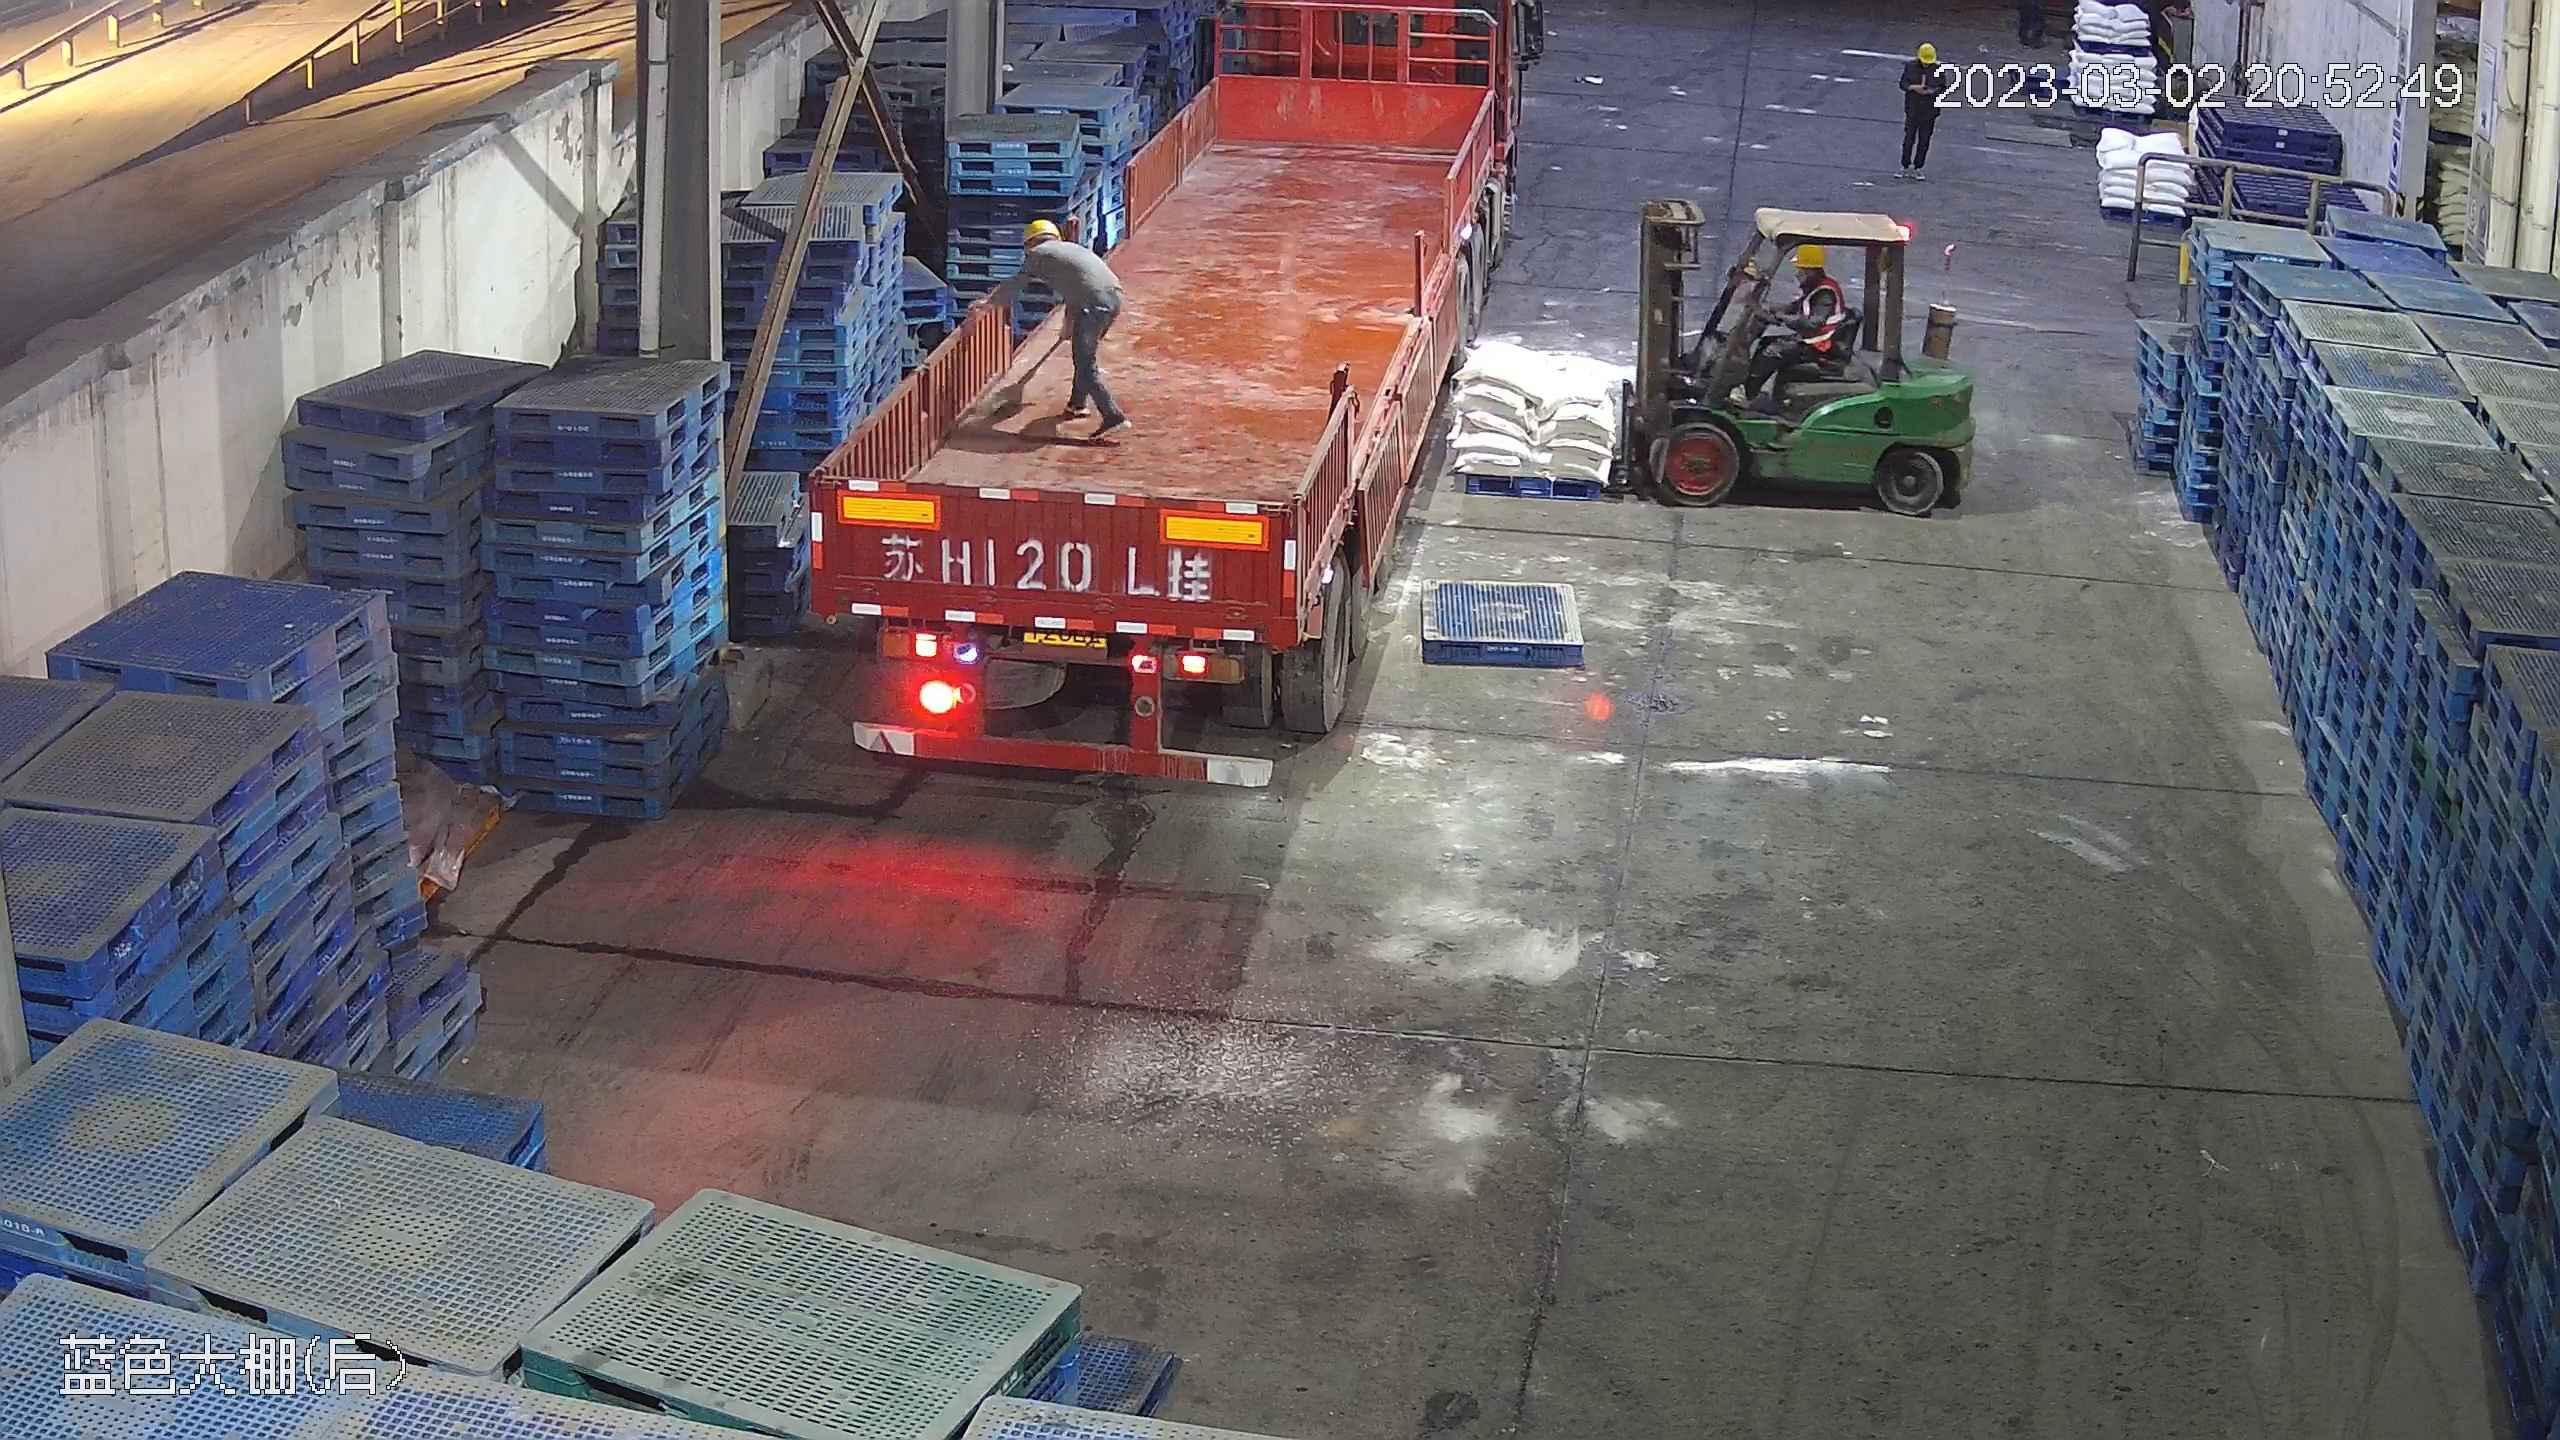head: (1787, 240, 1843, 314), (1019, 217, 1089, 278), (1901, 41, 1944, 87)
helmet: (1789, 240, 1828, 267), (1021, 214, 1056, 246), (1911, 42, 1936, 62)
people: (1015, 213, 1123, 432), (1731, 242, 1845, 404), (1894, 40, 1948, 181)
truck: (801, 14, 1533, 784)
